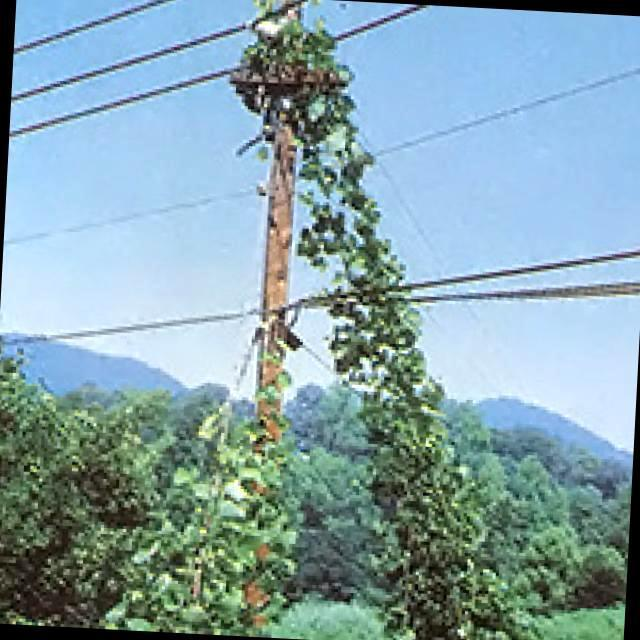critical vegetation: (200, 3, 448, 400)
